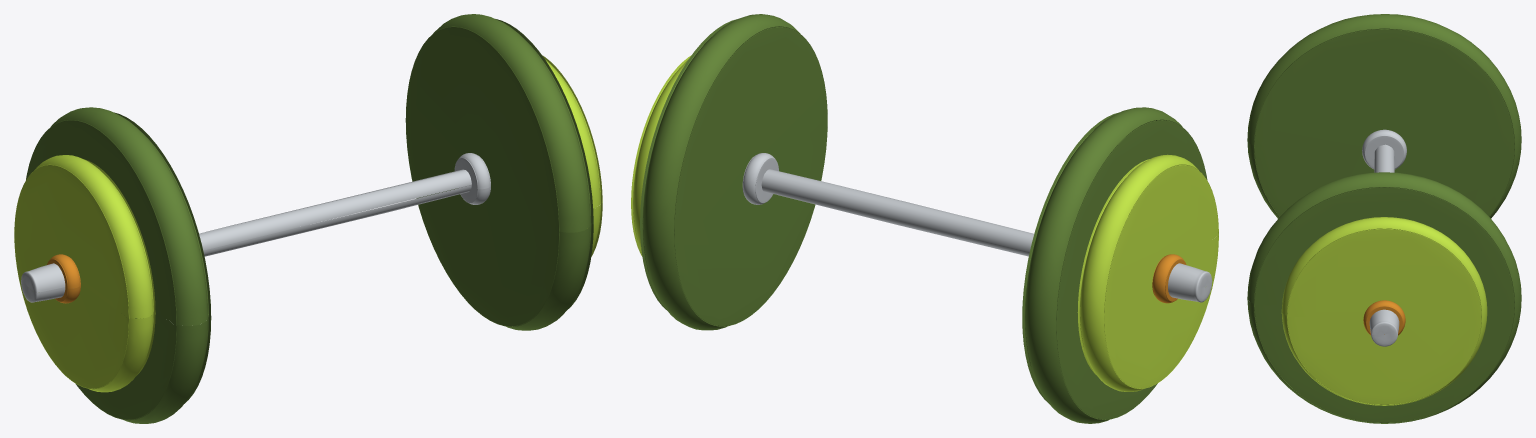
File: barbell.glb
The picture shows the model from 3 angles, left to right: view 1: azimuth 30°, elevation 25°; view 2: azimuth 150°, elevation 25°; view 3: azimuth 270°, elevation 25°; orthographic projection. The views are drawn at different scales.
Visible parts, largest first — view 1: plate (×2), bar+collar+sleeve, lock; view 2: plate (×2), bar+collar+sleeve, lock; view 3: plate (×2), bar+collar+sleeve, lock.
Boxes of the visible parts, <box> form: plate (×2): <box>14,14,602,423</box>; bar+collar+sleeve: <box>21,153,490,302</box>; lock: <box>47,254,80,303</box>; plate (×2): <box>631,14,1218,423</box>; bar+collar+sleeve: <box>742,153,1212,302</box>; lock: <box>1152,254,1186,303</box>; plate (×2): <box>1247,14,1521,423</box>; bar+collar+sleeve: <box>1362,129,1406,346</box>; lock: <box>1363,300,1405,335</box>.
Bounding box in the file's own units: 2.08 × 1.04 × 1.04.
